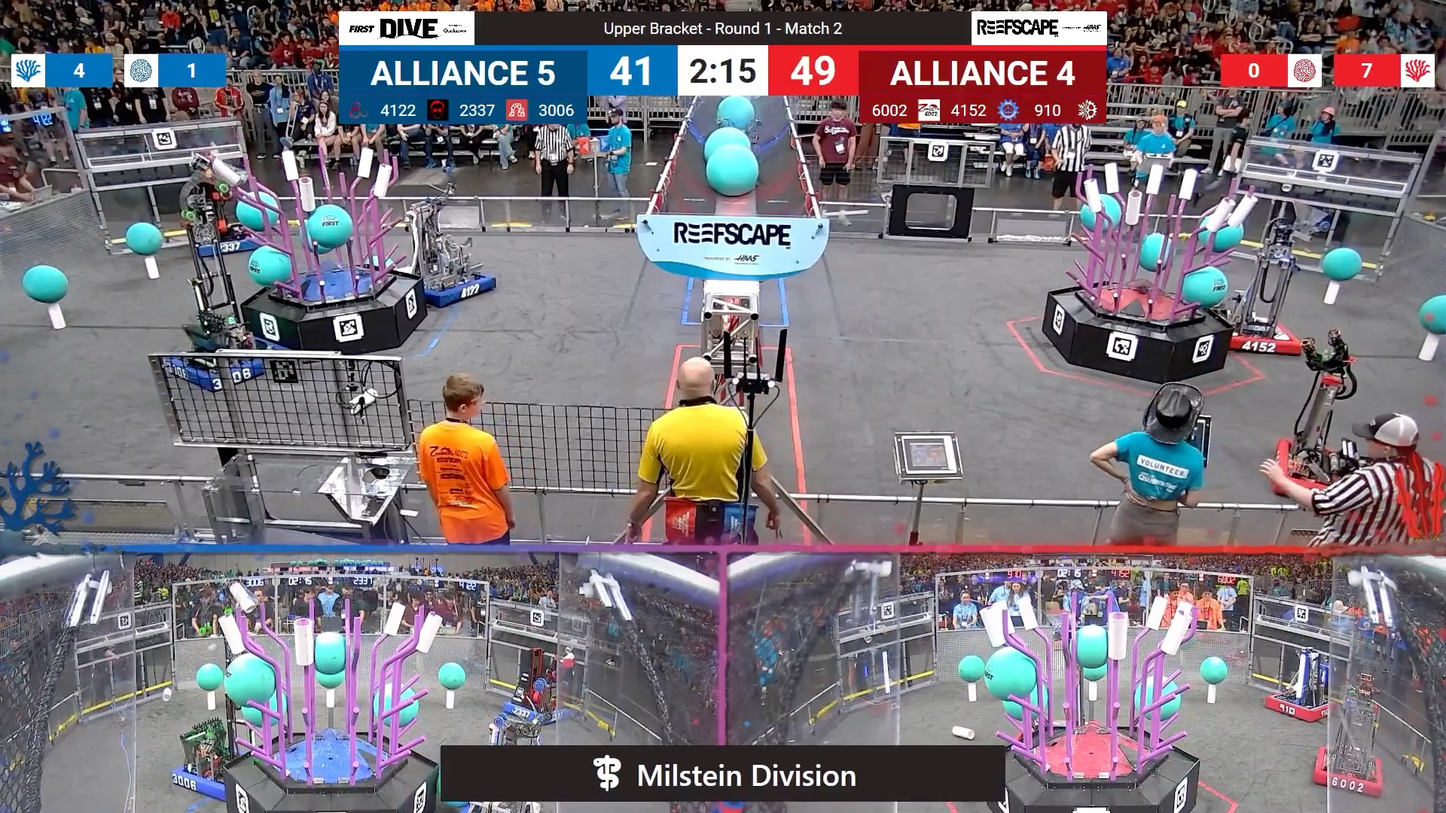bumpers: (1260, 440, 1390, 507), (162, 344, 278, 392), (395, 261, 504, 307), (1306, 741, 1389, 800), (1216, 313, 1312, 359), (166, 751, 245, 799), (1259, 691, 1341, 726), (499, 695, 574, 727), (185, 234, 266, 258)
